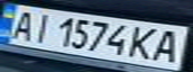1: (48, 15, 75, 47)
4: (106, 21, 133, 57)
5: (66, 16, 90, 52)
7: (87, 19, 109, 54)
A: (148, 27, 190, 64), (0, 7, 42, 40)
I: (24, 11, 57, 44)
K: (124, 25, 163, 61)
